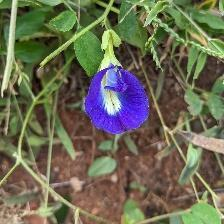shankupushpam: (85, 31, 152, 135)
